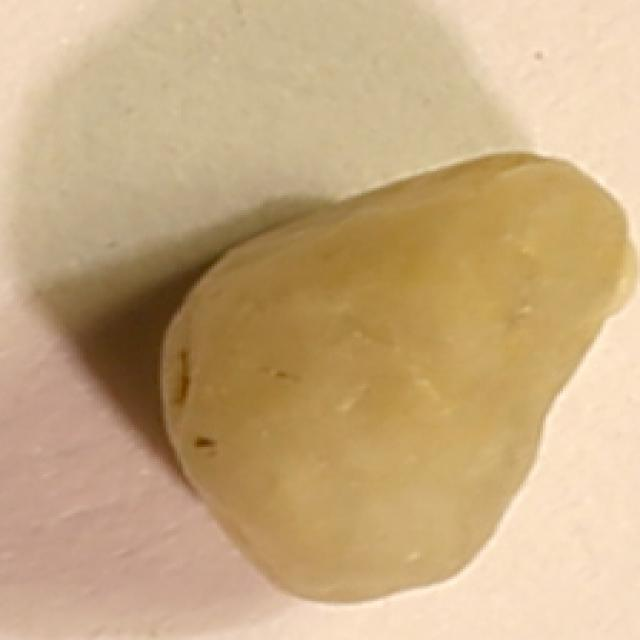stone: (156, 150, 640, 613)
